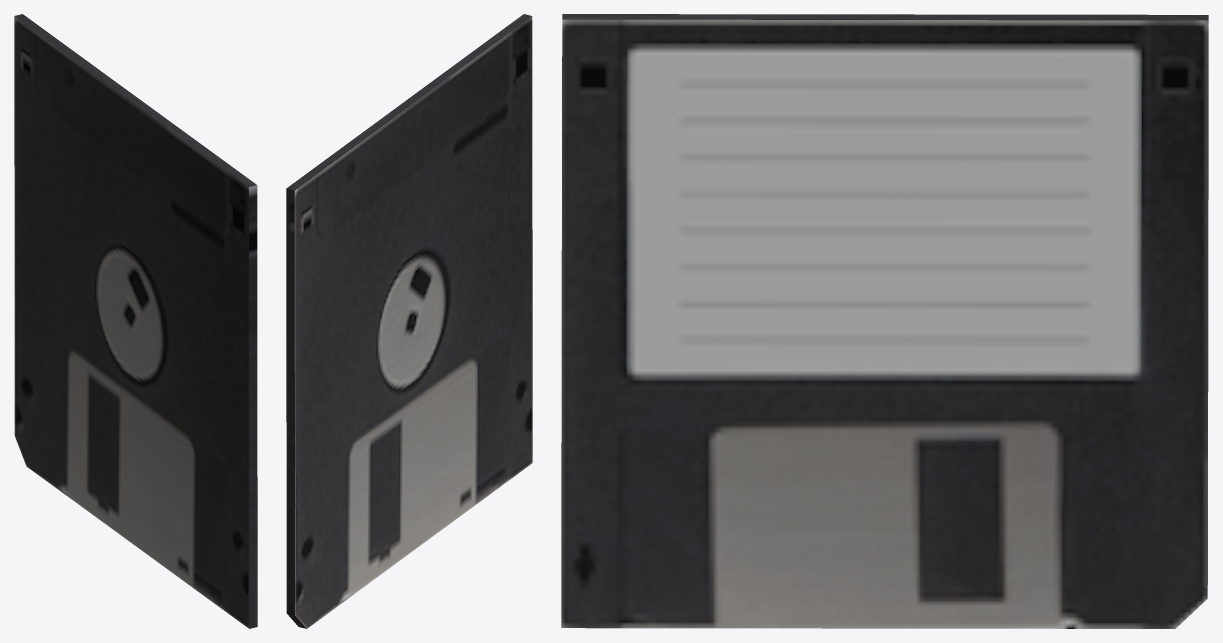
Rendered from floppy.glb.
The picture shows the model from 3 angles, left to right: view 1: azimuth 30°, elevation 25°; view 2: azimuth 150°, elevation 25°; view 3: azimuth 270°, elevation 25°; orthographic projection. The views are drawn at different scales.
Parts seen in each view (by area): view 1: Blank Floppy Disc_Blank Floppy Disk_0; view 2: Blank Floppy Disc_Blank Floppy Disk_0; view 3: Blank Floppy Disc_Blank Floppy Disk_0.
Part boxes in pixels (x1=…): Blank Floppy Disc_Blank Floppy Disk_0: x1=14, y1=14, x2=257, y2=628; Blank Floppy Disc_Blank Floppy Disk_0: x1=286, y1=14, x2=532, y2=628; Blank Floppy Disc_Blank Floppy Disk_0: x1=561, y1=14, x2=1208, y2=628.
Size of the model in its own units: 0.00184 by 0.0941 by 0.0906.
Materials: 1 (1 with a texture image).
